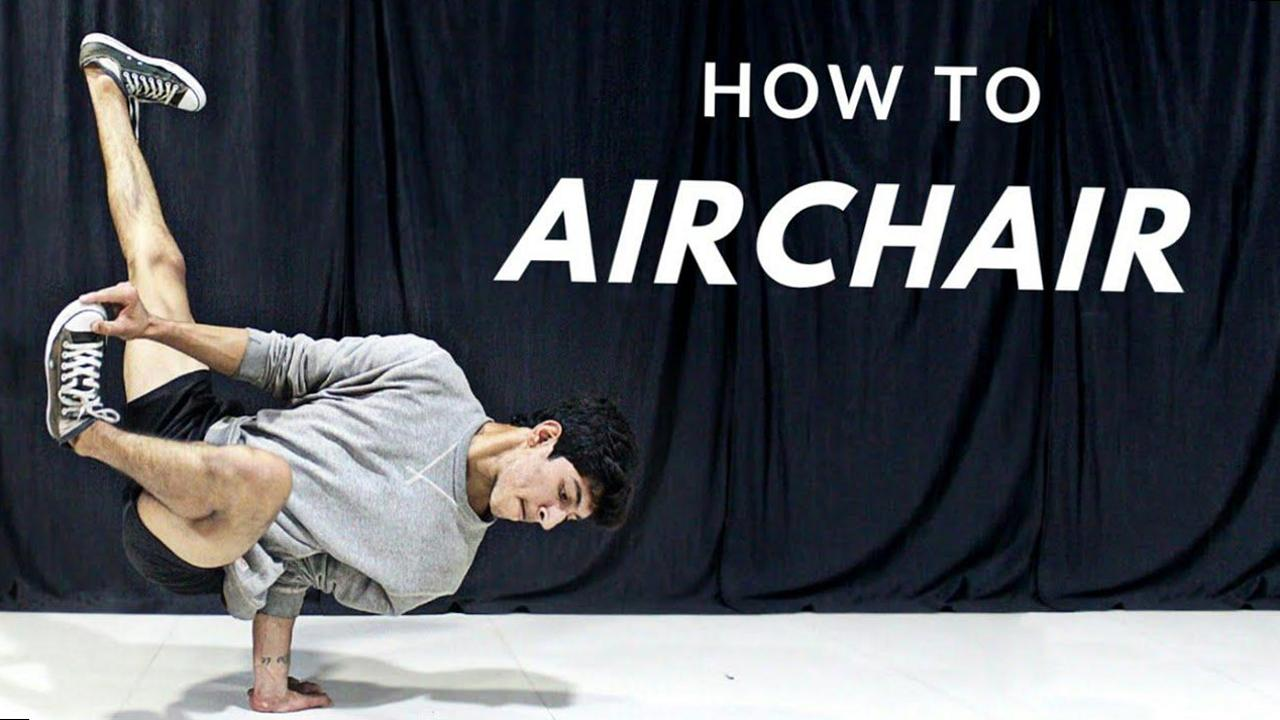airchair: (41, 32, 640, 711)
